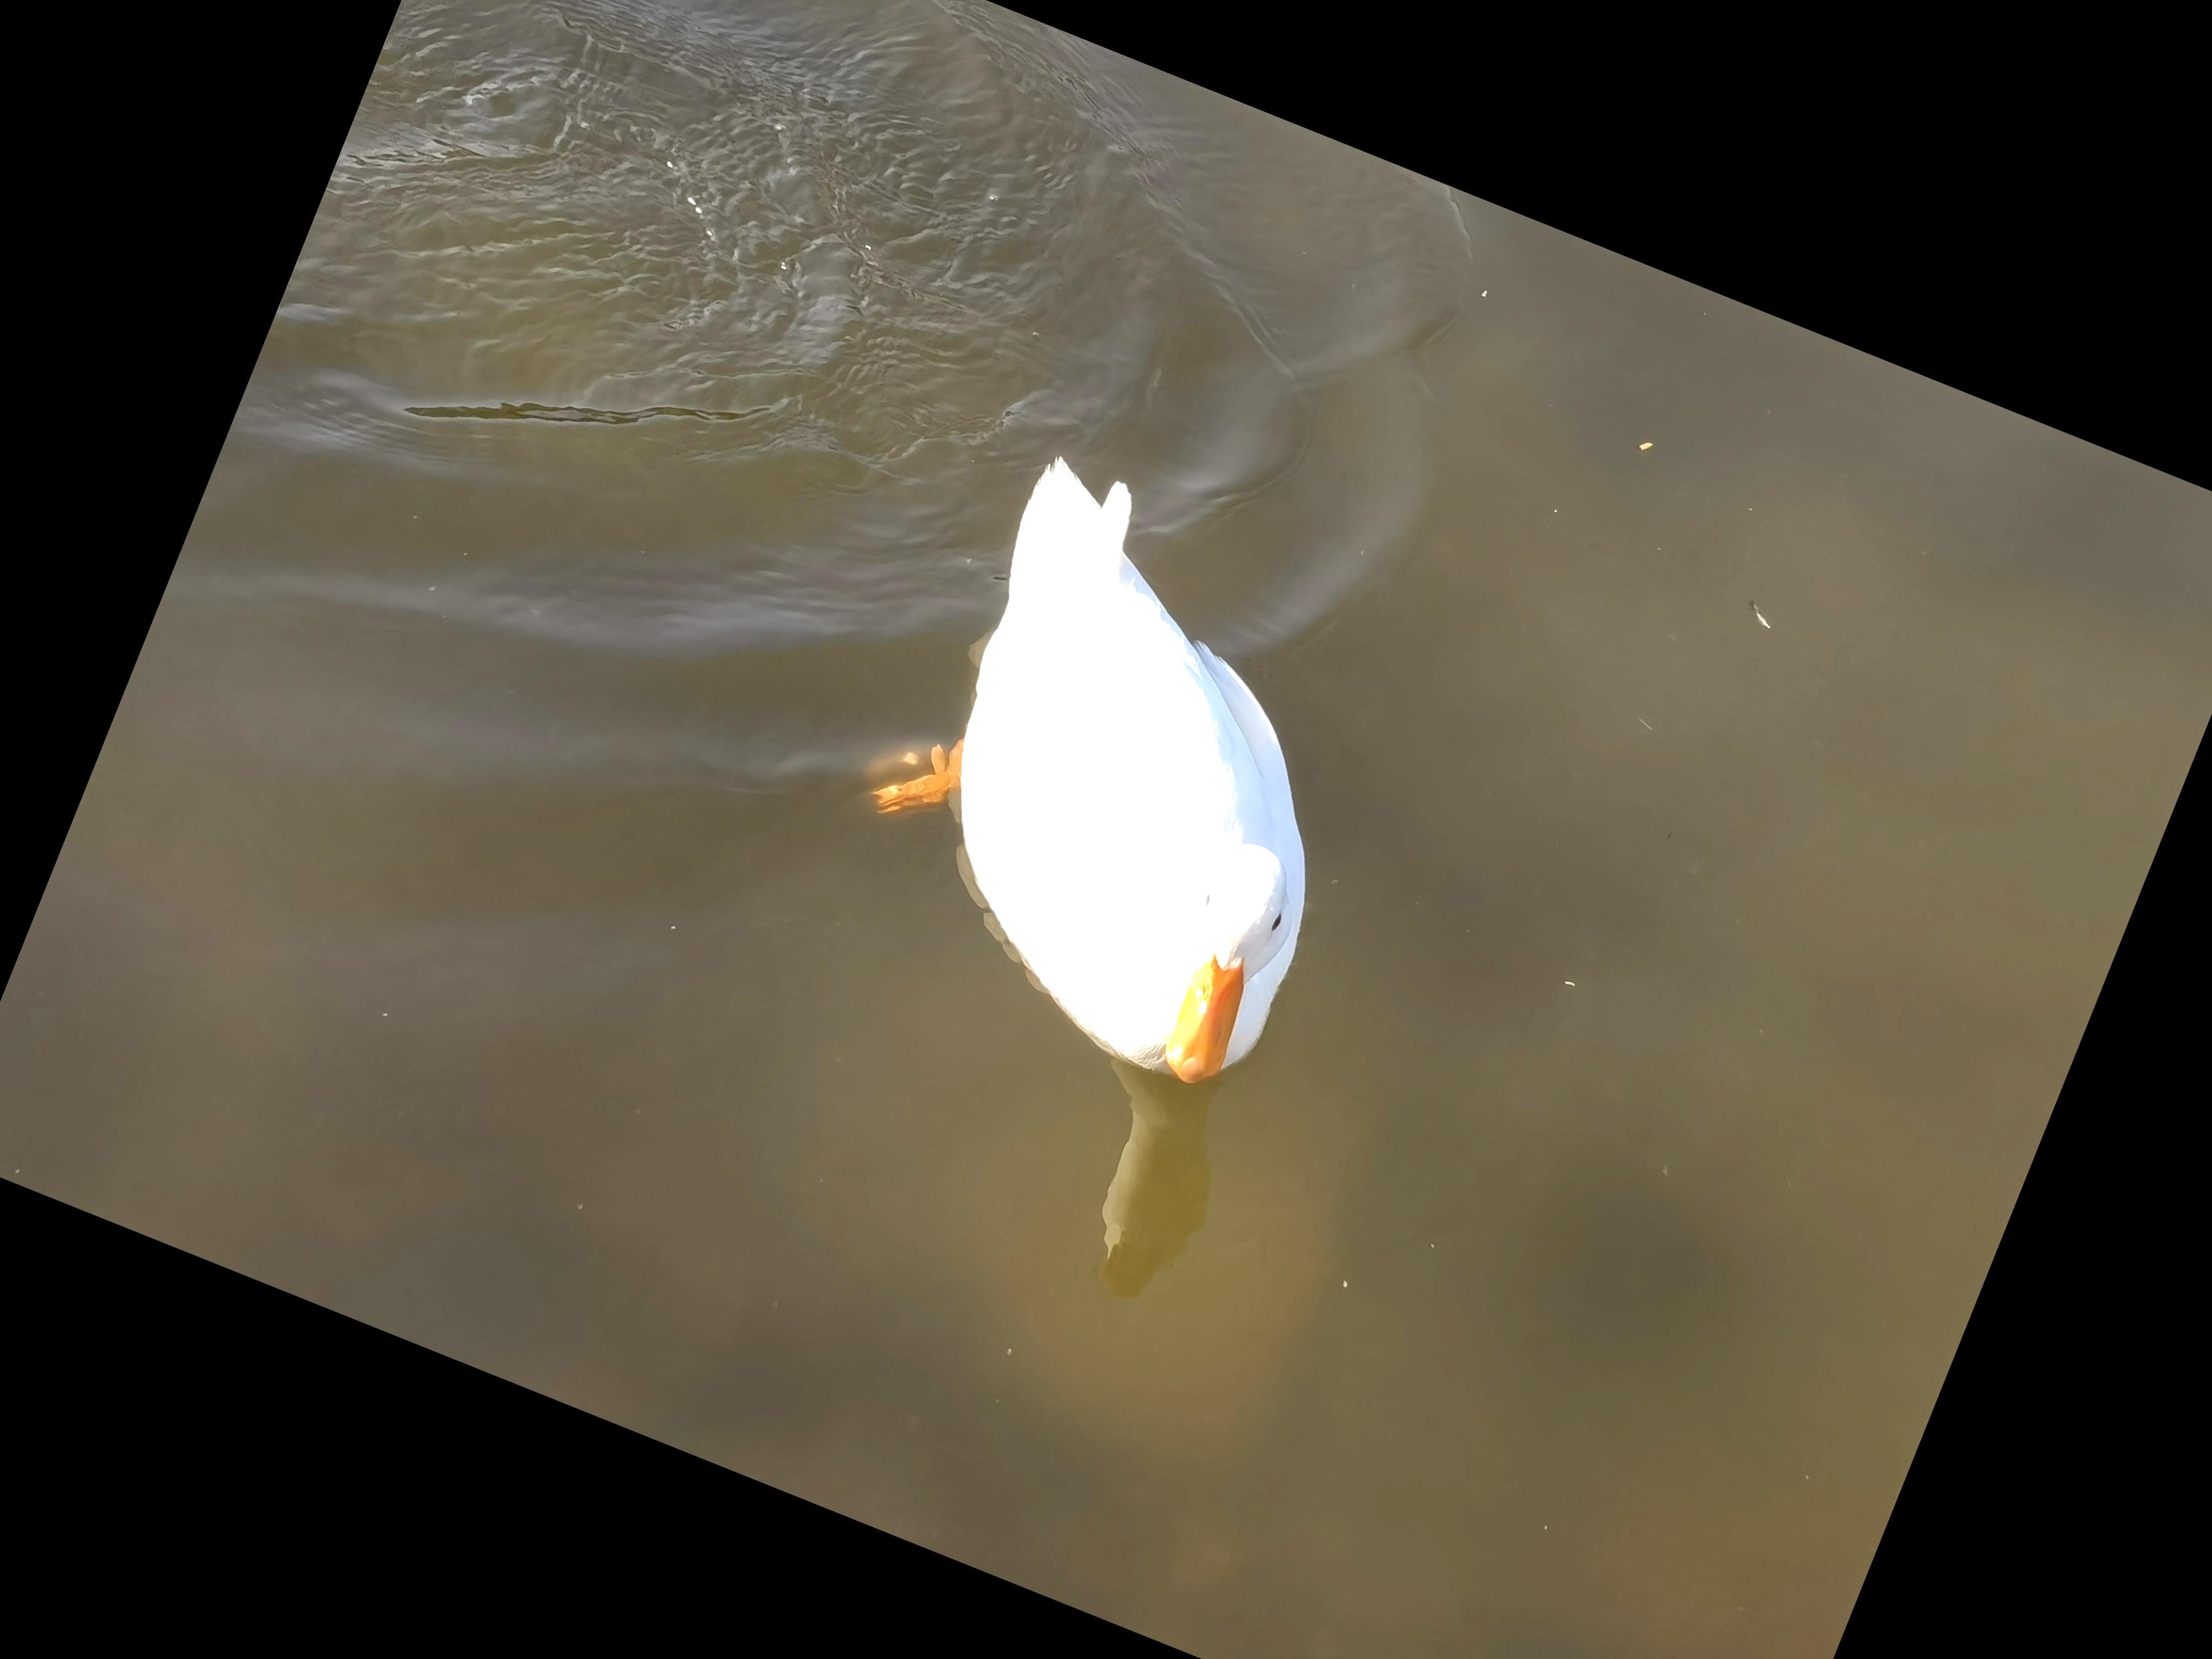duck: (775, 397, 1472, 1131)
